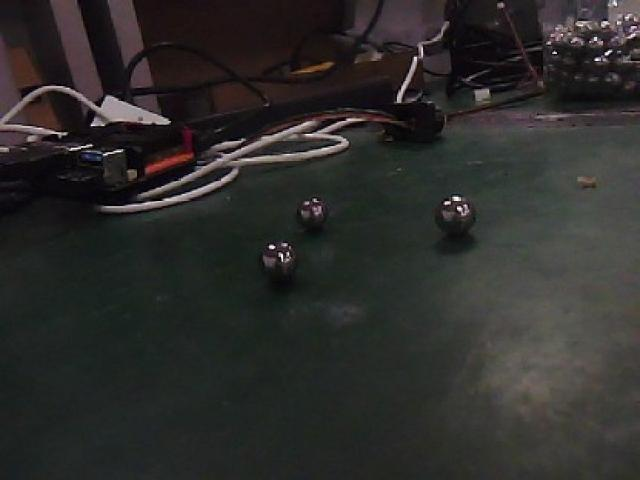steel-ball: (426, 188, 494, 244), (285, 178, 343, 240), (248, 228, 300, 280)
